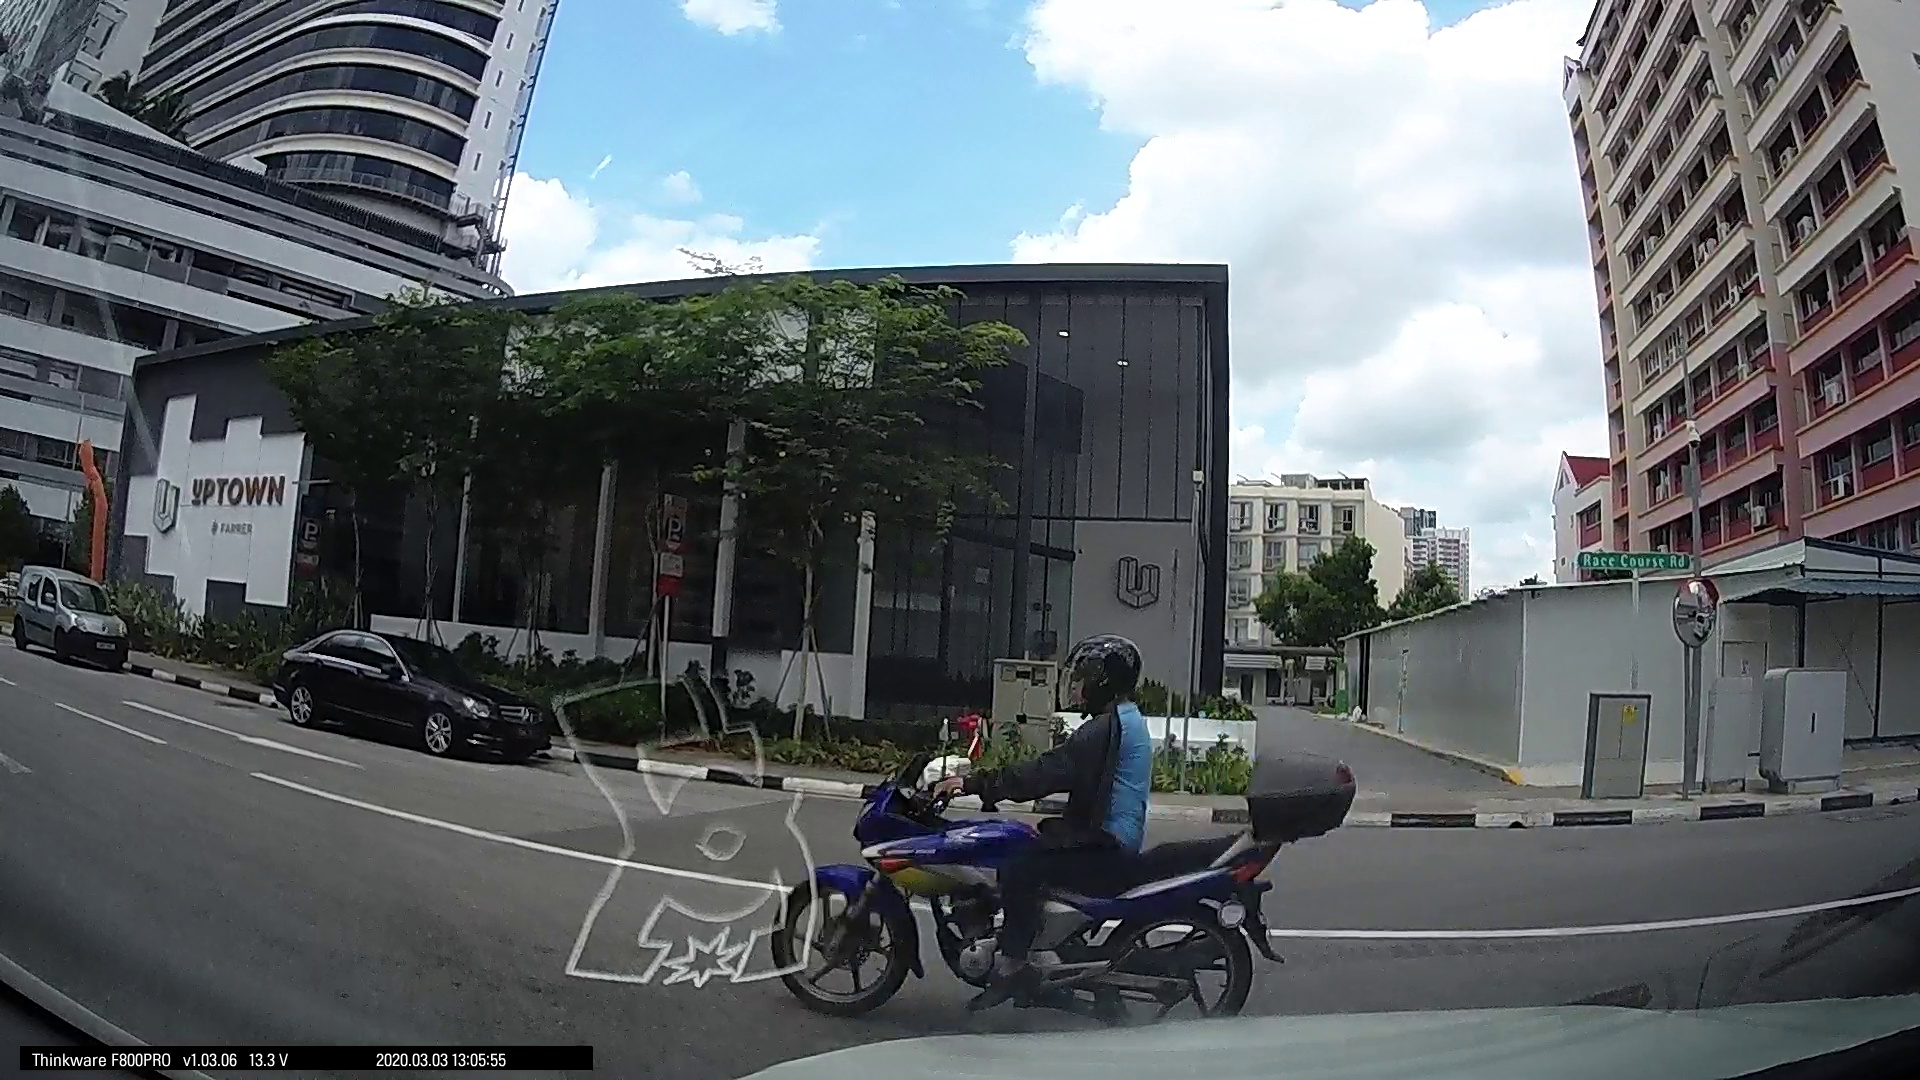Light Vehicle: (265, 622, 556, 762), (4, 559, 135, 673)
Motorcycle: (804, 712, 1317, 1040)
